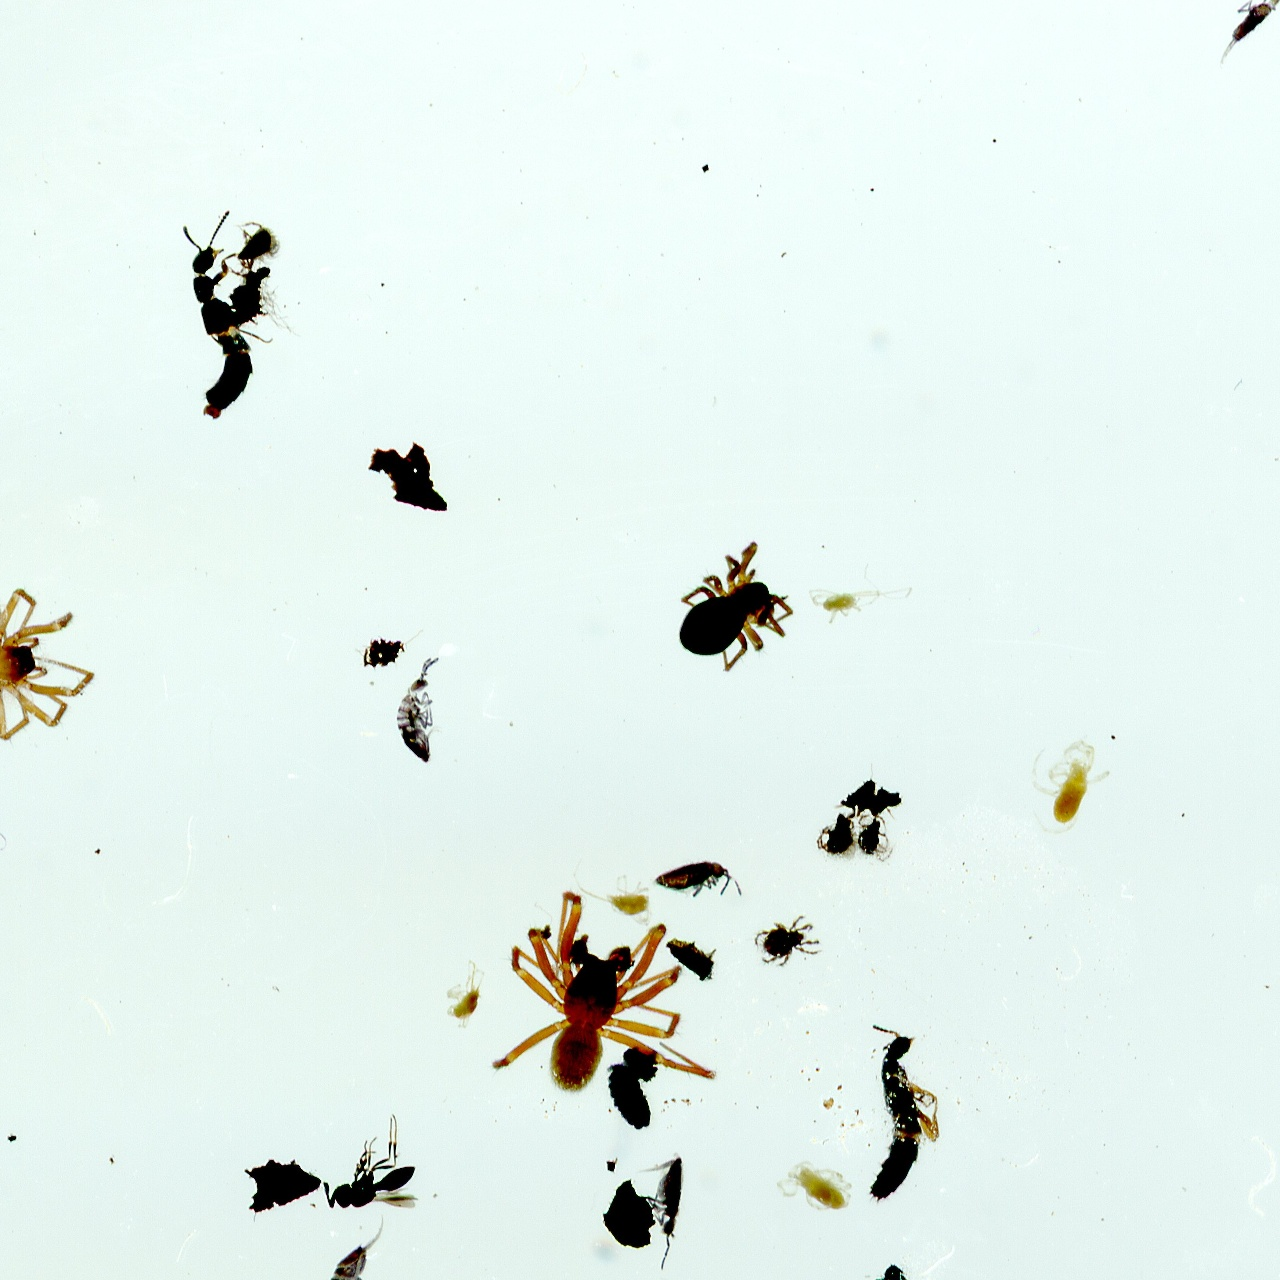arthropod: (475, 876, 758, 1130), (181, 206, 274, 417), (0, 576, 103, 756), (674, 540, 796, 676), (866, 1021, 940, 1206), (324, 1109, 423, 1211), (1026, 734, 1112, 838), (622, 1146, 690, 1274), (806, 560, 915, 627), (651, 851, 745, 917), (1200, 0, 1280, 76), (571, 852, 653, 926), (393, 655, 445, 769), (598, 1054, 662, 1138), (326, 1214, 394, 1280), (774, 1159, 852, 1212), (750, 914, 821, 968), (229, 219, 281, 281), (444, 956, 486, 1033), (856, 805, 897, 865), (816, 812, 862, 864)
